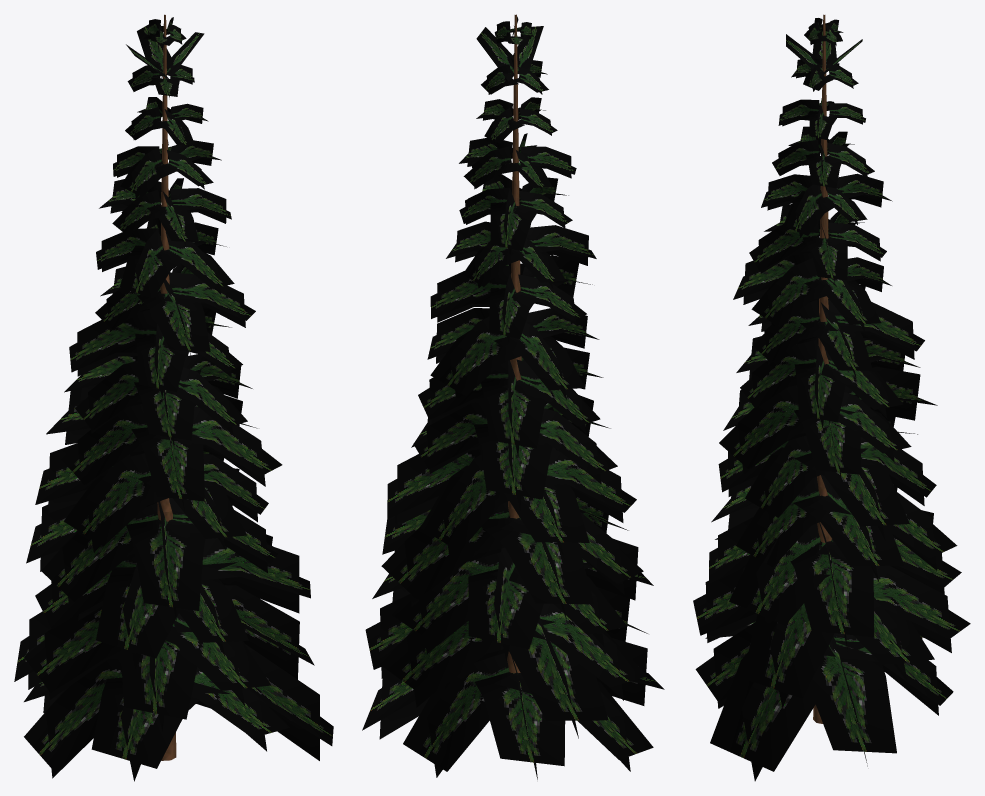
File: arbre_epicea_lod1.glb
The picture shows the model from 3 angles, left to right: view 1: azimuth 30°, elevation 25°; view 2: azimuth 150°, elevation 25°; view 3: azimuth 270°, elevation 25°; orthographic projection. The views are drawn at different scales.
Parts seen in each view (by area): view 1: arbre; view 2: arbre; view 3: arbre.
Boxes of the visible parts, x1,y1,x2,y2 form: arbre: (14, 14, 333, 781); arbre: (362, 14, 664, 779); arbre: (693, 14, 970, 781).
Bounding box in the file's own units: 8.38 × 22.53 × 7.96.
2 materials, 2 textured.
